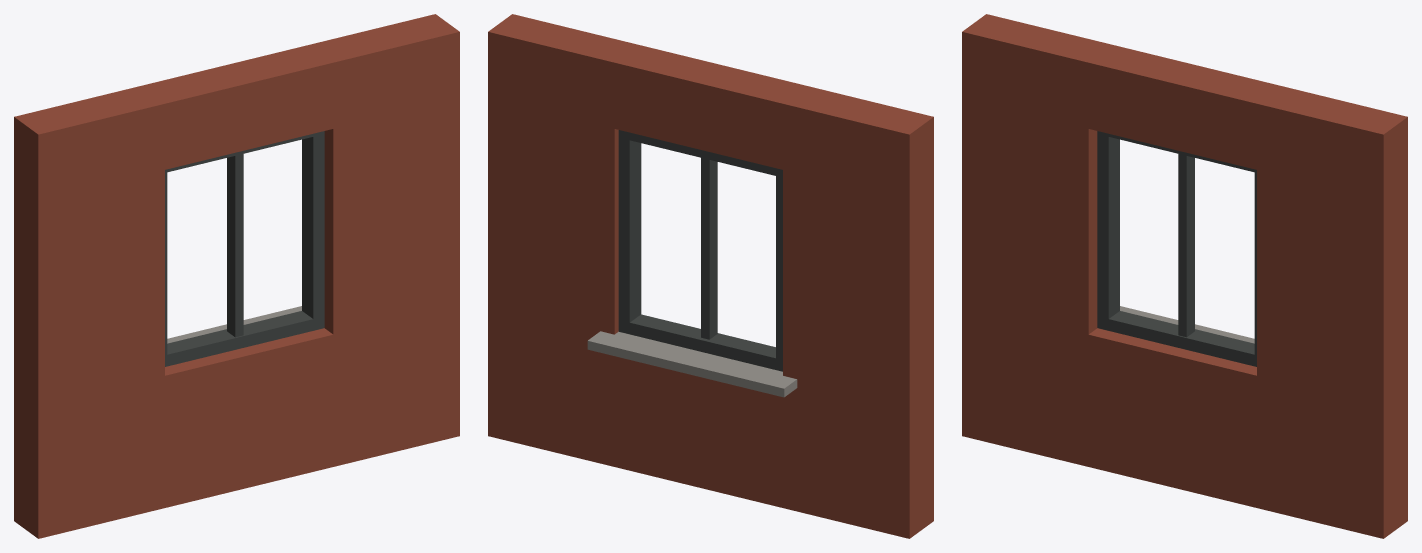
Rendered from Kit_brick_window.fbx.
3 views of the same model, side by side, from view 1: azimuth 30°, elevation 25°; view 2: azimuth 150°, elevation 25°; view 3: azimuth 330°, elevation 25° (orthographic).
Parts seen in each view (by area): view 1: WallJambL, WallJambR, WallBelow, WallAbove, FrameR, FrameBottom, Mullion, Sill, FrameTop, FrameL; view 2: WallJambL, WallJambR, WallBelow, WallAbove, Sill, FrameR, FrameBottom, Mullion, FrameL, FrameTop; view 3: WallJambR, WallJambL, WallBelow, WallAbove, FrameL, FrameBottom, Mullion, Sill, FrameTop, FrameR.
Part boxes in pixels (<box>): WallJambL: <box>14,86,164,538</box>; WallJambR: <box>309,14,459,466</box>; WallBelow: <box>165,328,333,507</box>; WallAbove: <box>141,45,333,169</box>; FrameR: <box>302,131,324,328</box>; FrameBottom: <box>165,311,324,366</box>; Mullion: <box>227,154,243,337</box>; Sill: <box>167,306,301,343</box>; FrameTop: <box>165,131,324,172</box>; FrameL: <box>165,169,167,366</box>; WallJambL: <box>783,86,933,538</box>; WallJambR: <box>488,14,638,466</box>; WallBelow: <box>614,356,782,507</box>; WallAbove: <box>614,45,806,169</box>; Sill: <box>587,331,797,397</box>; FrameR: <box>618,130,641,333</box>; FrameBottom: <box>618,314,775,369</box>; Mullion: <box>701,158,717,339</box>; FrameL: <box>776,168,782,371</box>; FrameTop: <box>626,131,780,175</box>; WallJambR: <box>1257,86,1407,538</box>; WallJambL: <box>962,14,1112,466</box>; WallBelow: <box>1088,328,1256,507</box>; WallAbove: <box>1088,45,1280,169</box>; FrameL: <box>1097,131,1119,330</box>; FrameBottom: <box>1097,311,1256,366</box>; Mullion: <box>1178,154,1194,337</box>; Sill: <box>1120,306,1254,343</box>; FrameTop: <box>1097,131,1256,172</box>; FrameR: <box>1254,169,1256,355</box>.
Bounding box in the file's own units: 300 × 46 × 275.
